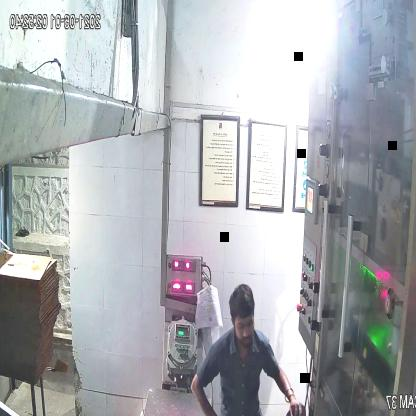no_goggles: (228, 310, 258, 336)
